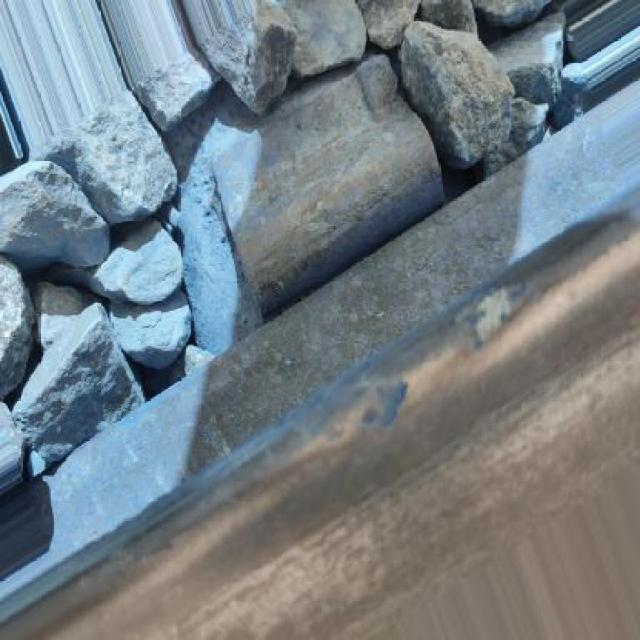defective: (0, 166, 638, 638)
